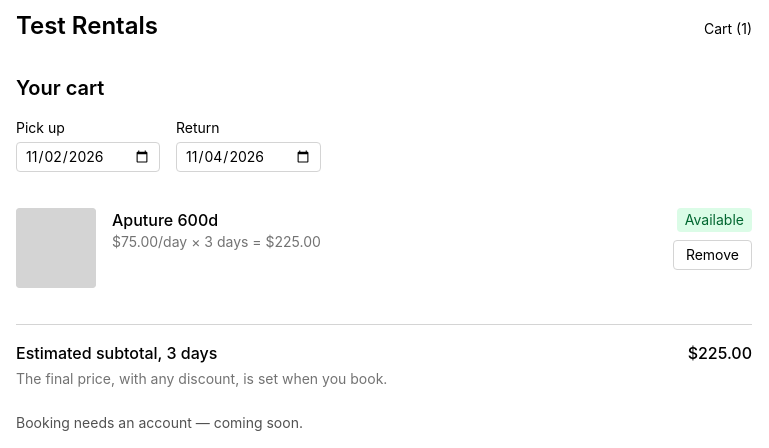
cart page › changes the dates for the whole cart
Expected: the text "Aputure 600d" is shown, [112, 210, 218, 230]
Type "2026-11-03" into the date field labelled "Return" at (248, 157), box [176, 142, 321, 172]
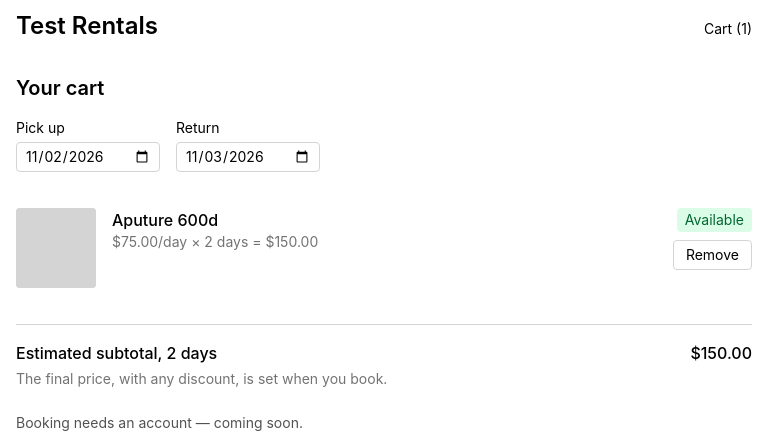
Now the element showing "Estimated subtotal, 2 days $150.00" is shown, box [16, 341, 752, 365]
